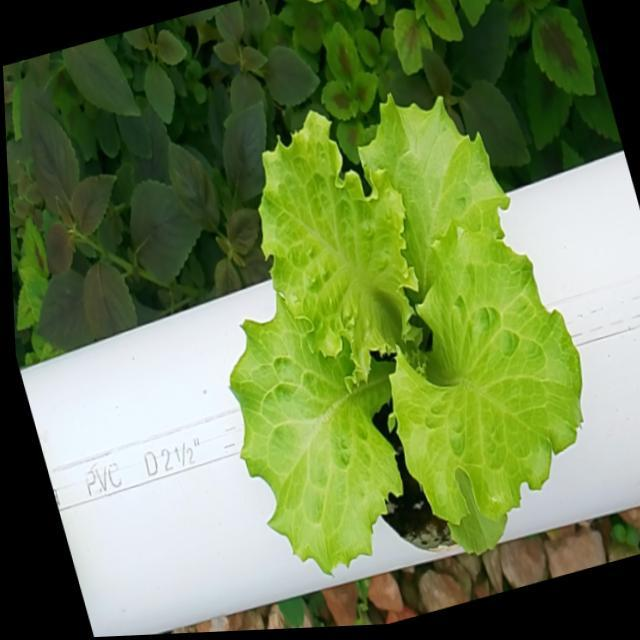Baby: (229, 86, 579, 563)
